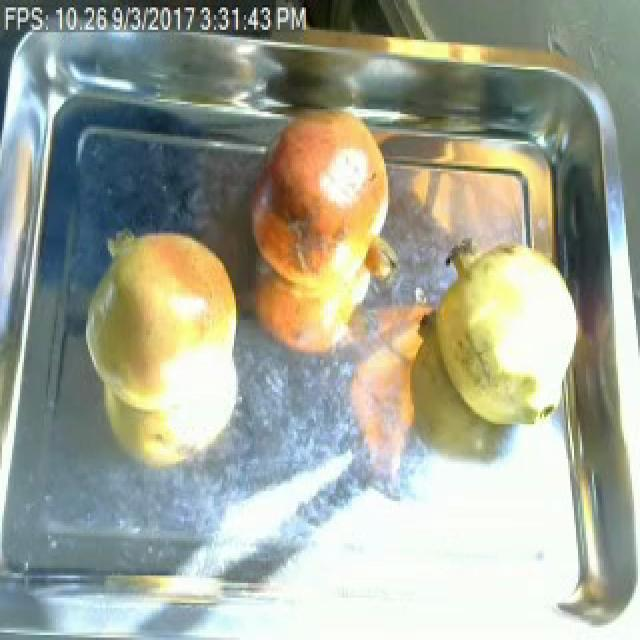fruit: (62, 208, 258, 446), (412, 228, 586, 444), (236, 97, 400, 305)
